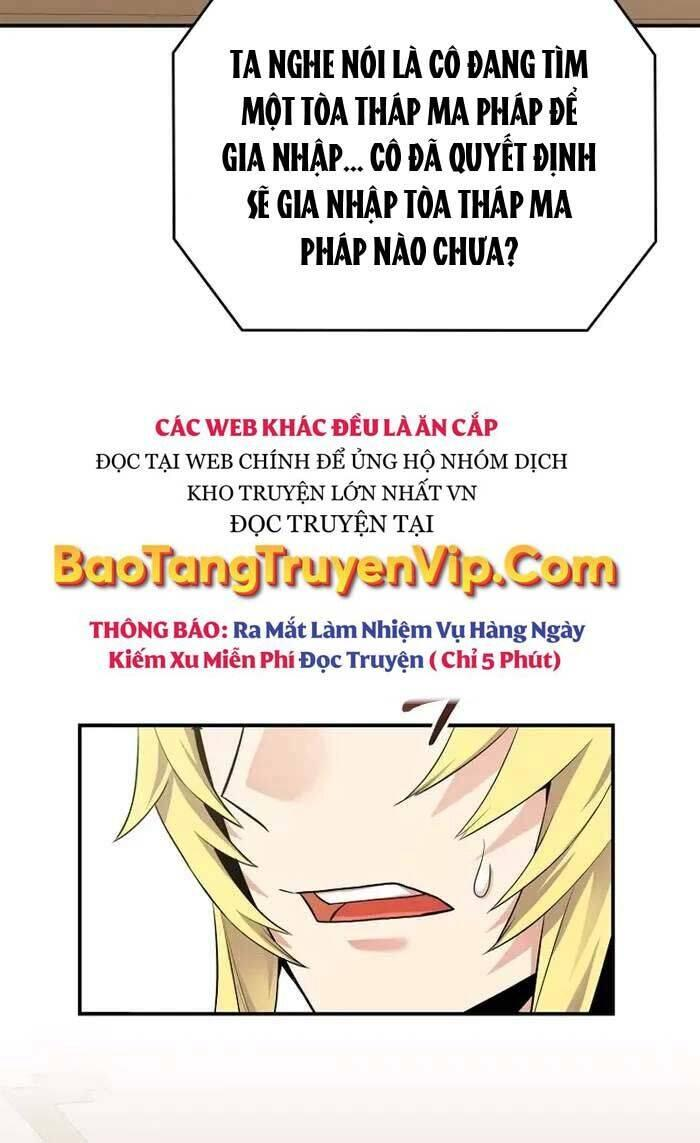quangcao: (53, 412, 620, 672)
